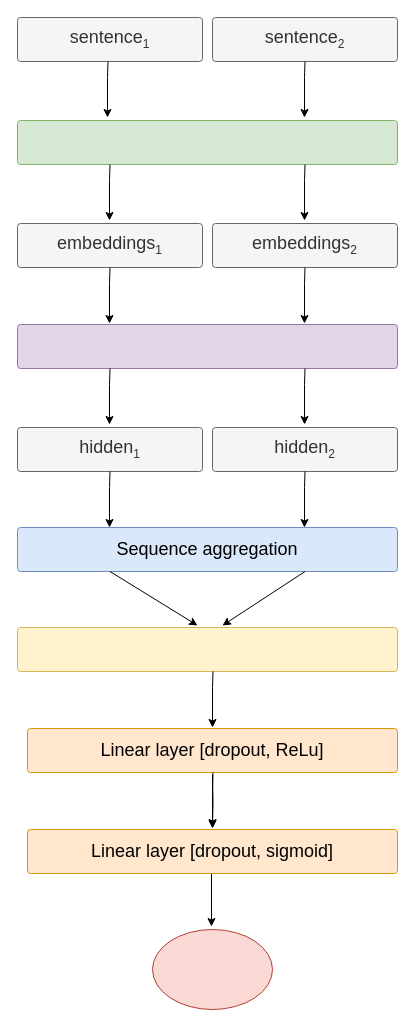
This 415x1027 diagram has some shape labels left out. Here are the shapes that lost their labels. From the top down, the centre of each, then its label:
At (207,142): "Embedding [dropout]".
At (207,346): "BiLSTM [dropout]".
At (207,649): "Concatenation".
At (212,969): "True / False".
